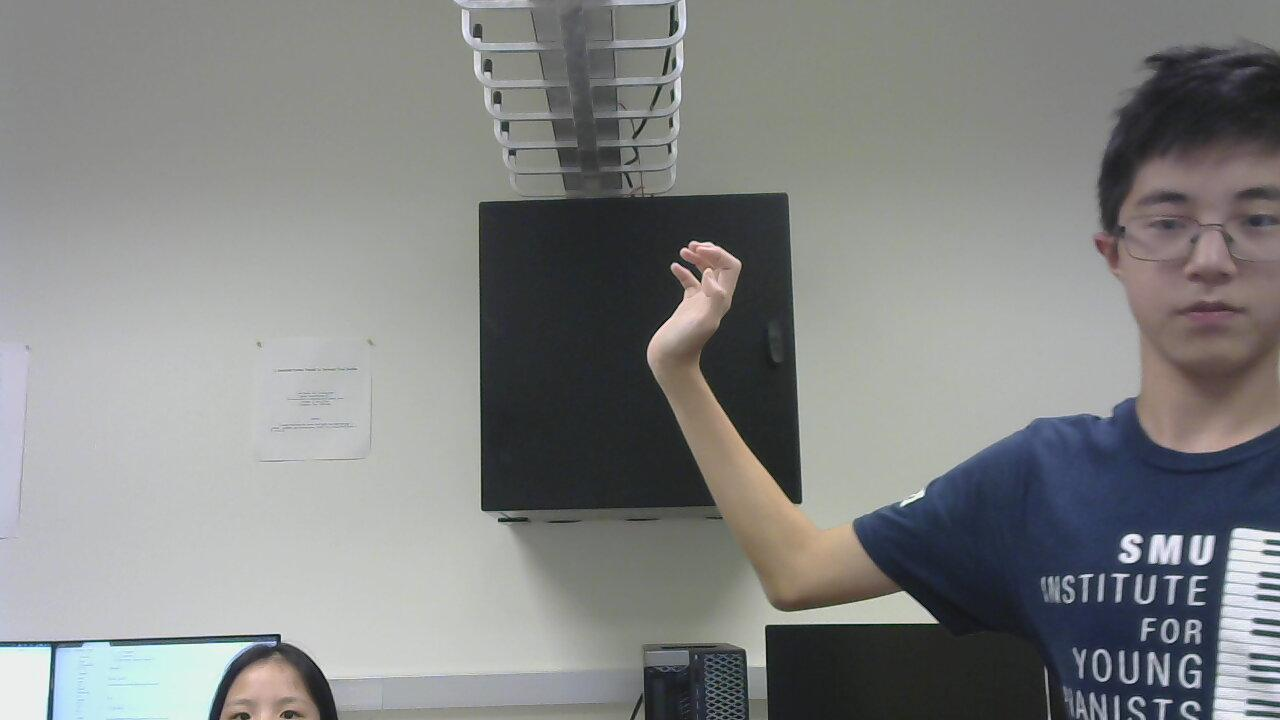hands: (643, 229, 738, 375)
